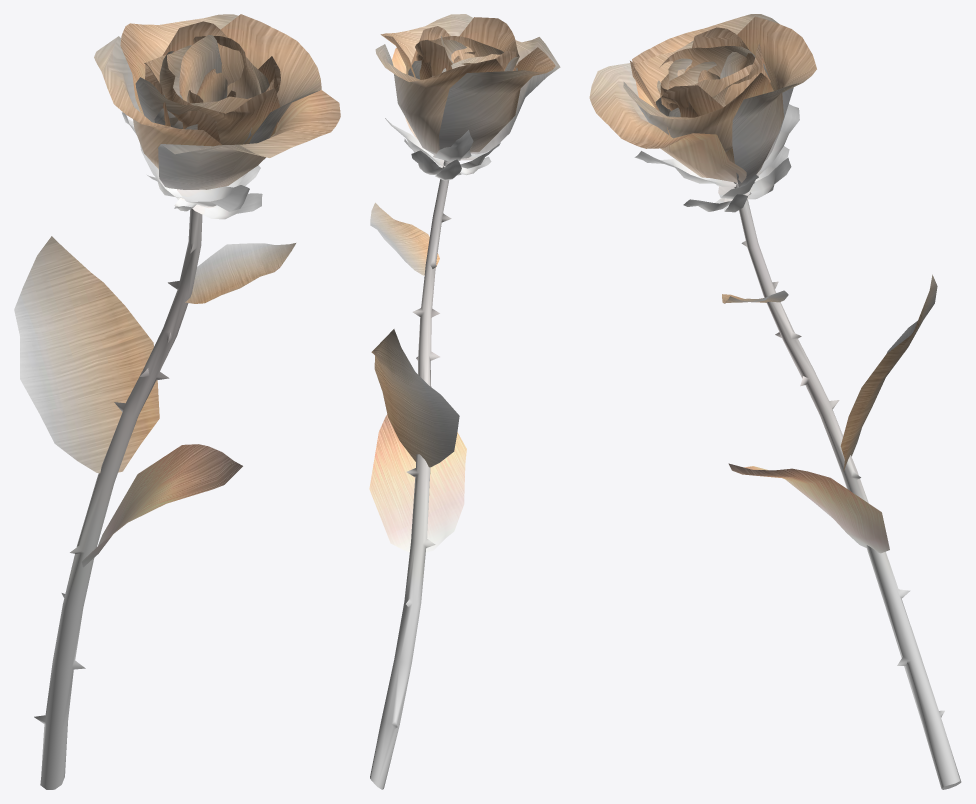
File: rose.gltf
The picture shows the model from 3 angles, left to right: view 1: azimuth 30°, elevation 25°; view 2: azimuth 150°, elevation 25°; view 3: azimuth 270°, elevation 25°; orthographic projection. The views are drawn at different scales.
Parts seen in each view (by area): view 1: Rose_1; view 2: Rose_1; view 3: Rose_1.
Part boxes in pixels (x1,y1,x2,y2): Rose_1: (14, 14, 340, 789); Rose_1: (369, 14, 560, 789); Rose_1: (589, 14, 961, 789).
Bounding box in the file's own units: 0.0665 × 0.2604 × 0.1153.
1 material, 1 textured.
